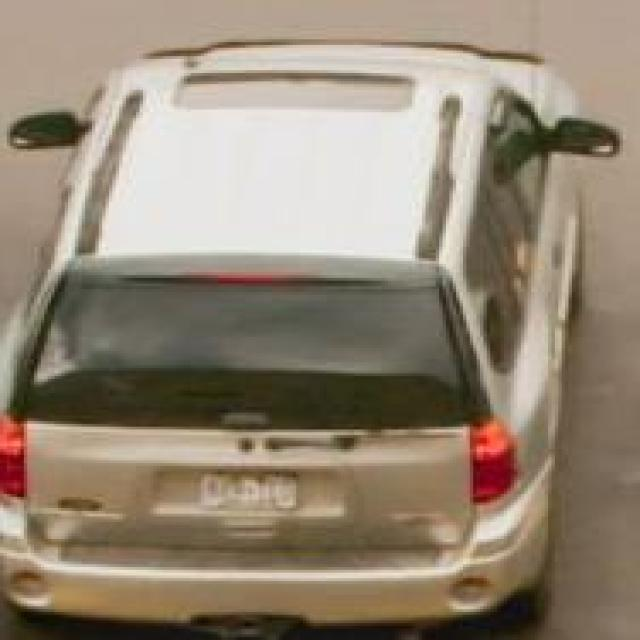Car: (41, 45, 606, 640)
